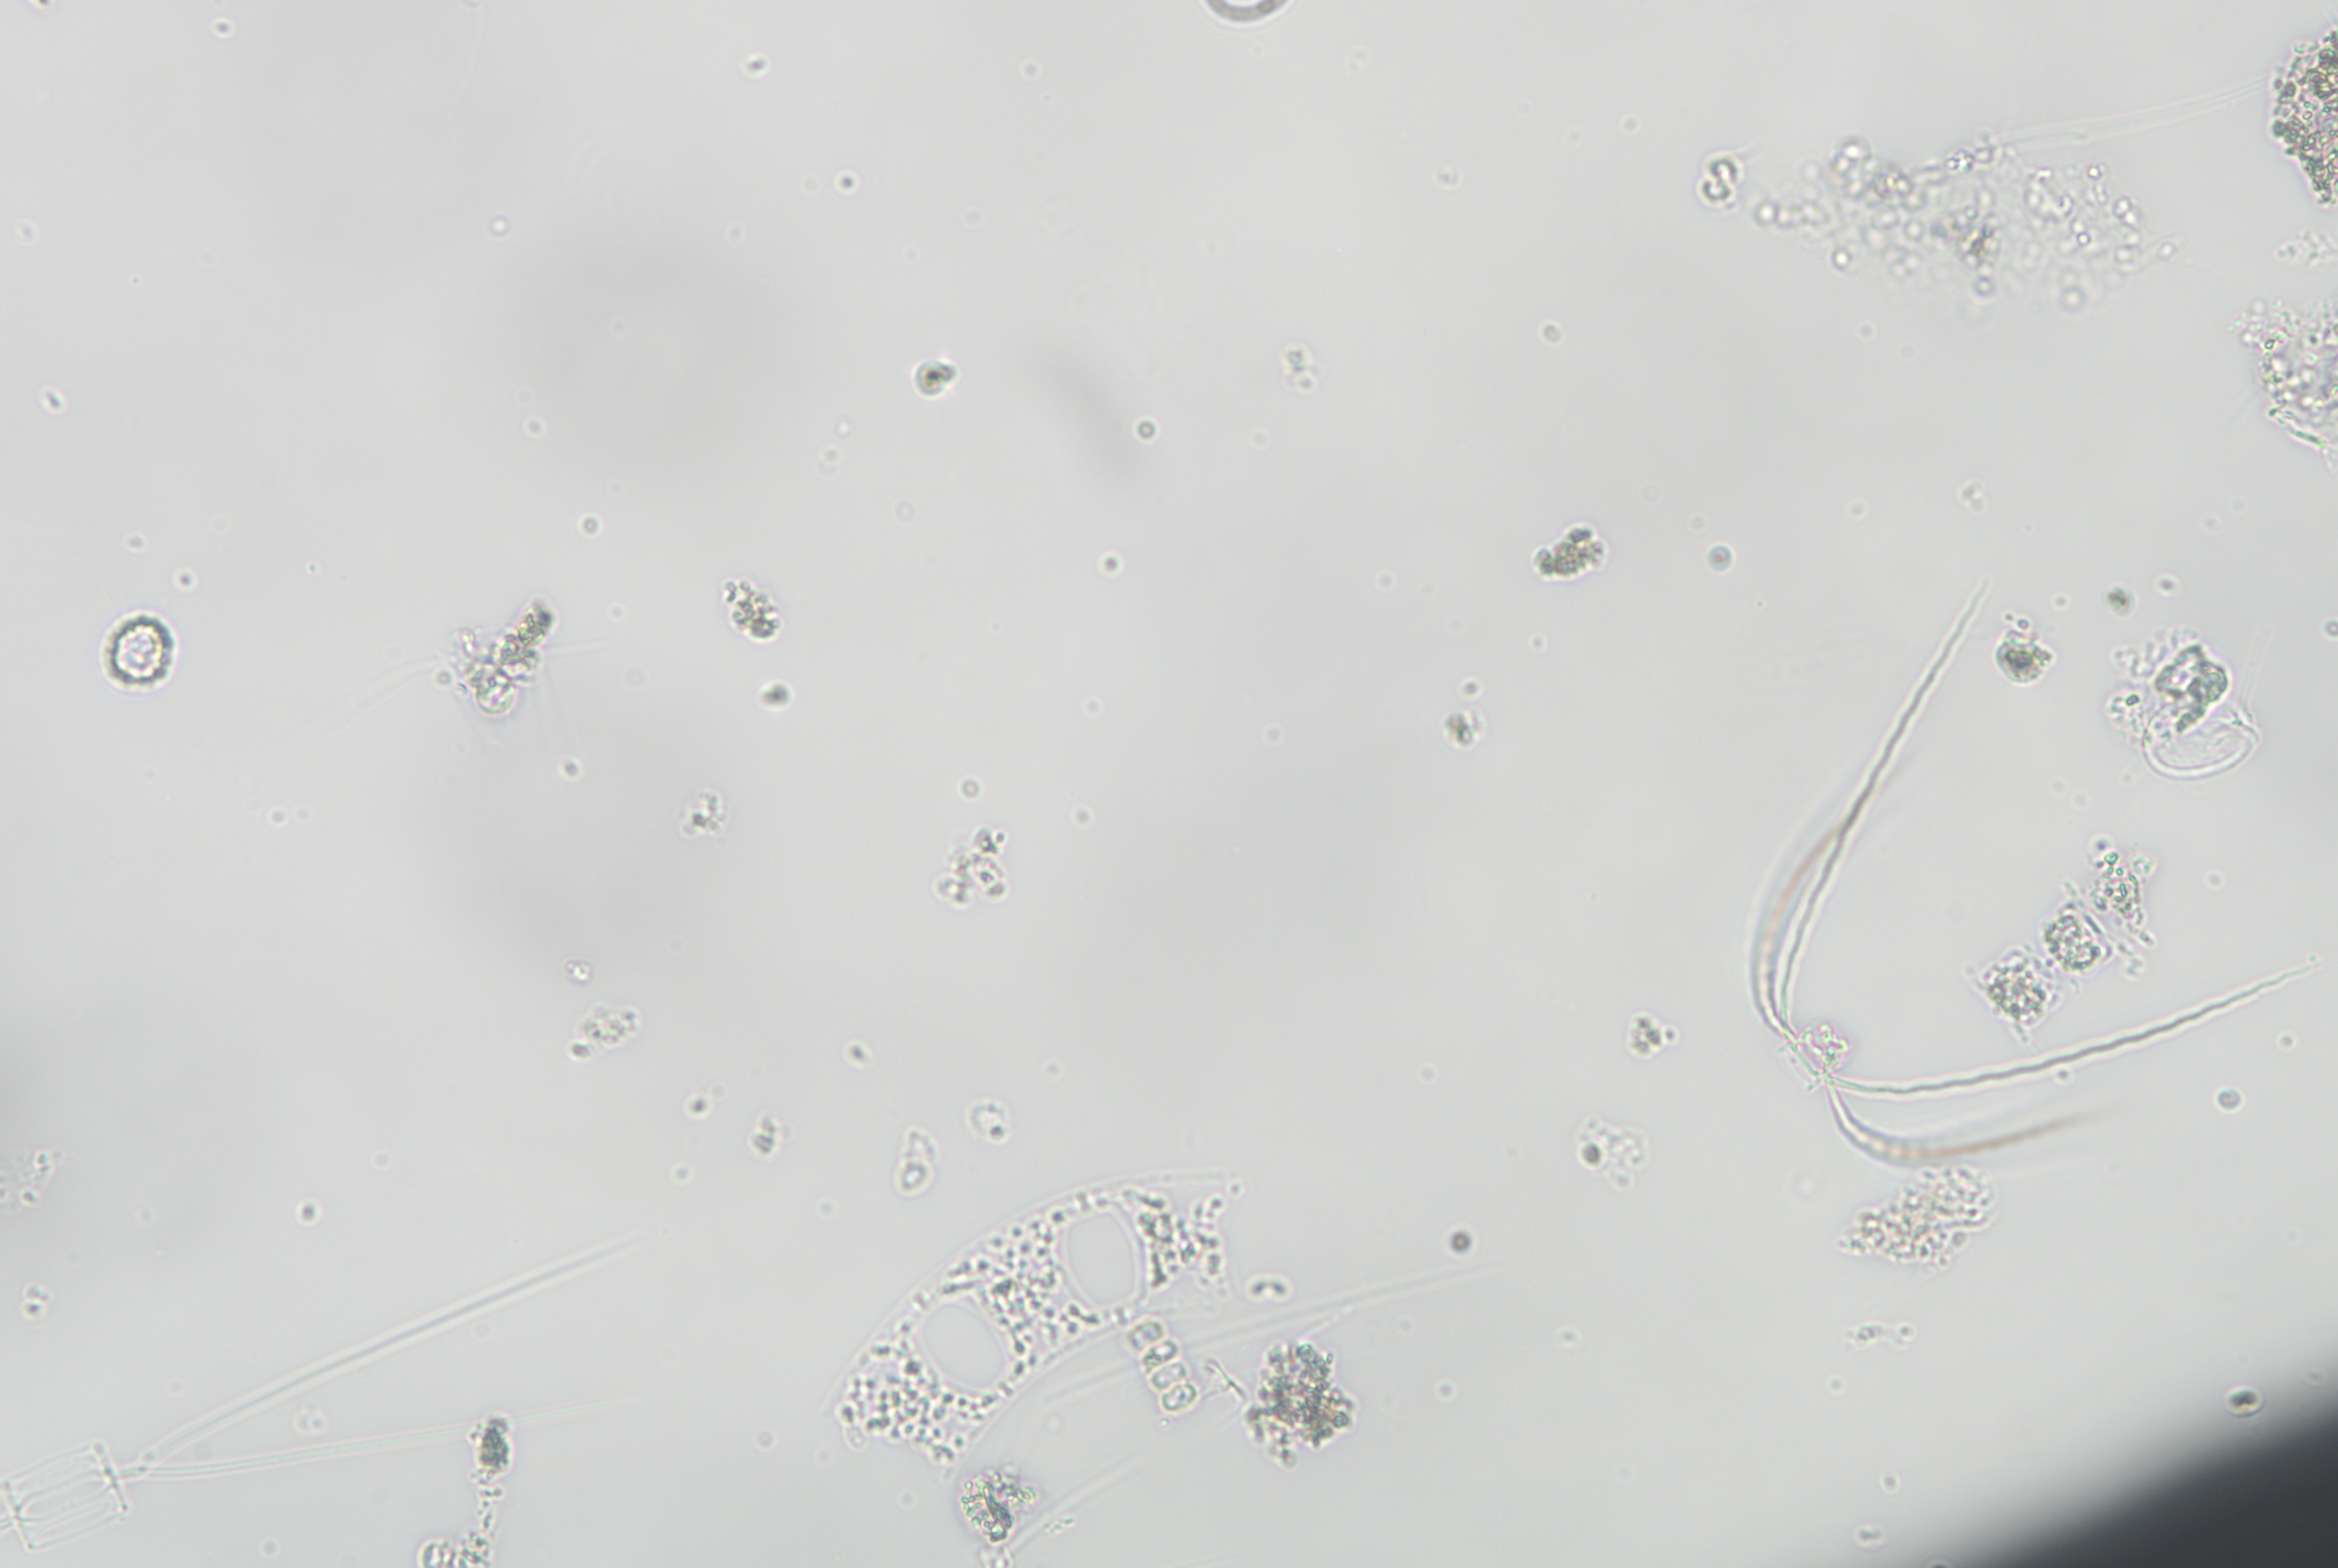chaetoceros: (1734, 579, 2315, 1206)
eucampia: (842, 1160, 1246, 1470)
